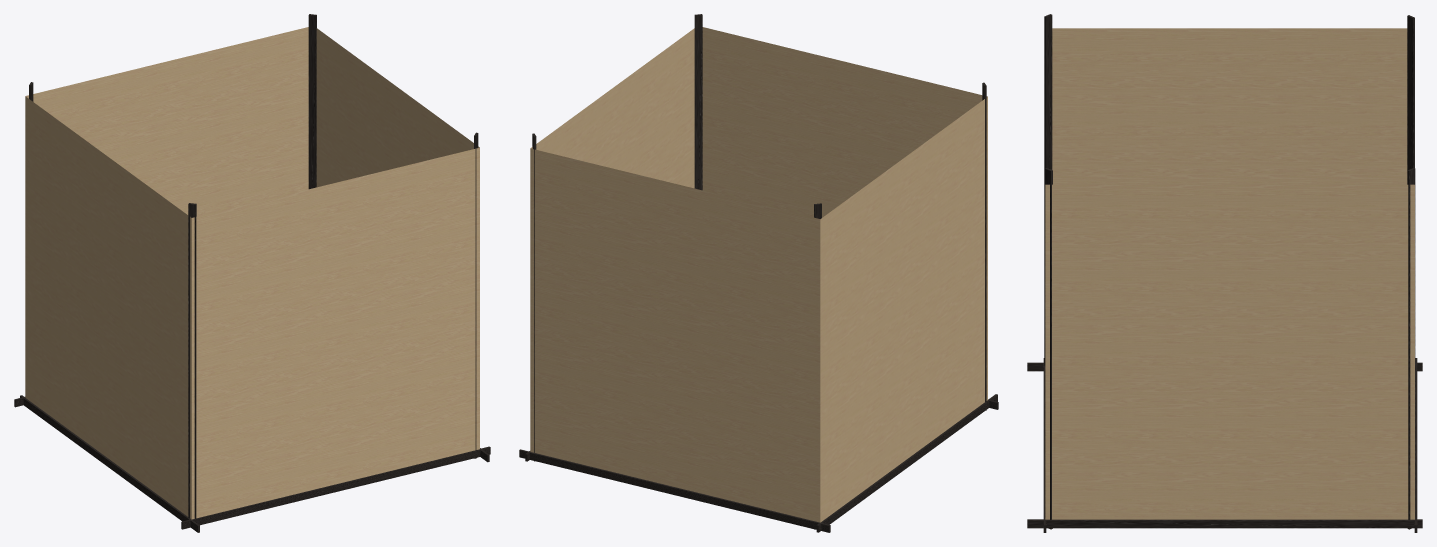
Rendered from Floor.fbx.
3 renders of one model, left to right at view 1: azimuth 30°, elevation 25°; view 2: azimuth 150°, elevation 25°; view 3: azimuth 270°, elevation 25°, orthographic. The views are drawn at different scales.
Visible parts, largest first — view 1: Wall, Frame.001, Frame.002, Frame.006, Frame.004, Frame.005; view 2: Wall, Frame, Frame.002, Frame.005, Frame.006; view 3: Wall, Frame.003, Frame.006, Frame.004, Frame.007, Frame.005, Frame.
Part boxes in pixels (x1,y1,x2,y2): Wall: [25, 27, 479, 519]; Frame.001: [181, 446, 490, 529]; Frame.002: [20, 395, 199, 532]; Frame.006: [188, 203, 196, 518]; Frame.004: [308, 14, 316, 189]; Frame.005: [474, 132, 478, 458]; Wall: [530, 27, 987, 522]; Frame: [519, 449, 830, 532]; Frame.002: [816, 394, 997, 532]; Frame.005: [694, 14, 702, 190]; Frame.006: [982, 82, 986, 410]; Wall: [1045, 28, 1414, 519]; Frame.003: [1027, 519, 1422, 528]; Frame.006: [1044, 14, 1052, 365]; Frame.004: [1407, 168, 1415, 529]; Frame.007: [1407, 15, 1414, 184]; Frame.005: [1045, 168, 1052, 529]; Frame: [1414, 358, 1417, 532].
Size of what is drawn, in the model's own units: 9157 by 9157 by 9157.
Materials: 2 (2 with a texture image).
